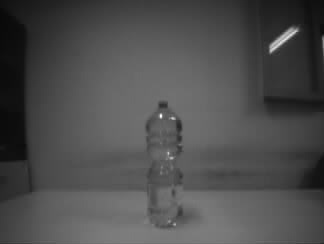Bottle: (145, 98, 184, 229)
